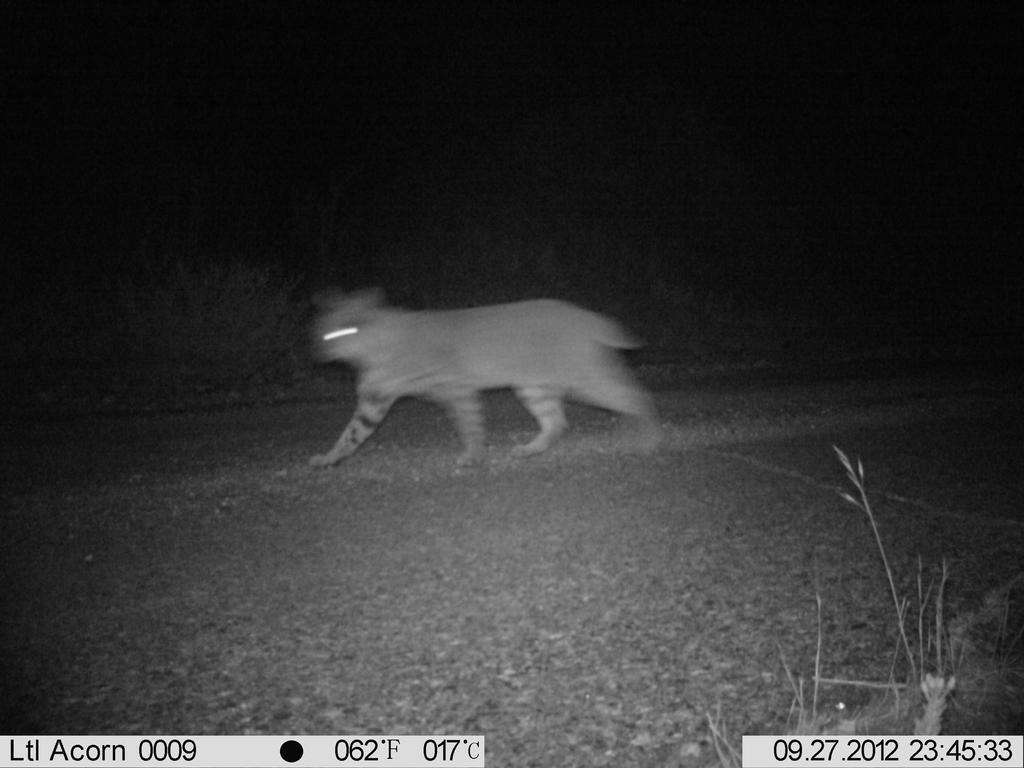bobcat: (297, 278, 674, 474)
